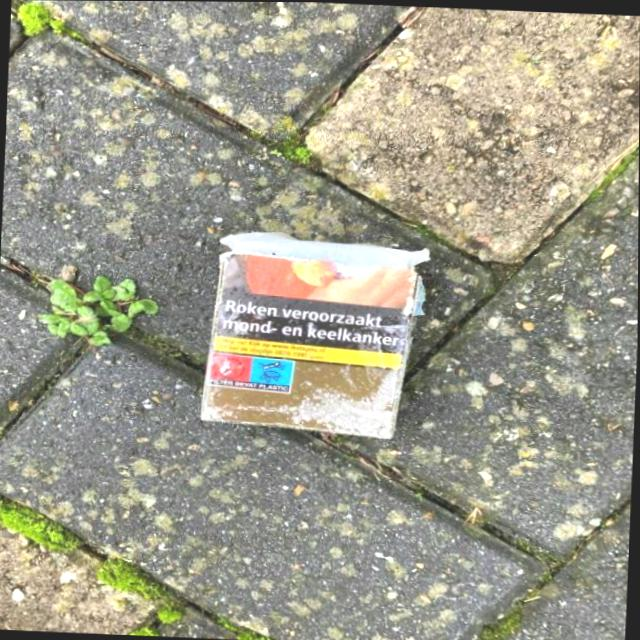Paper: (195, 225, 435, 445)
